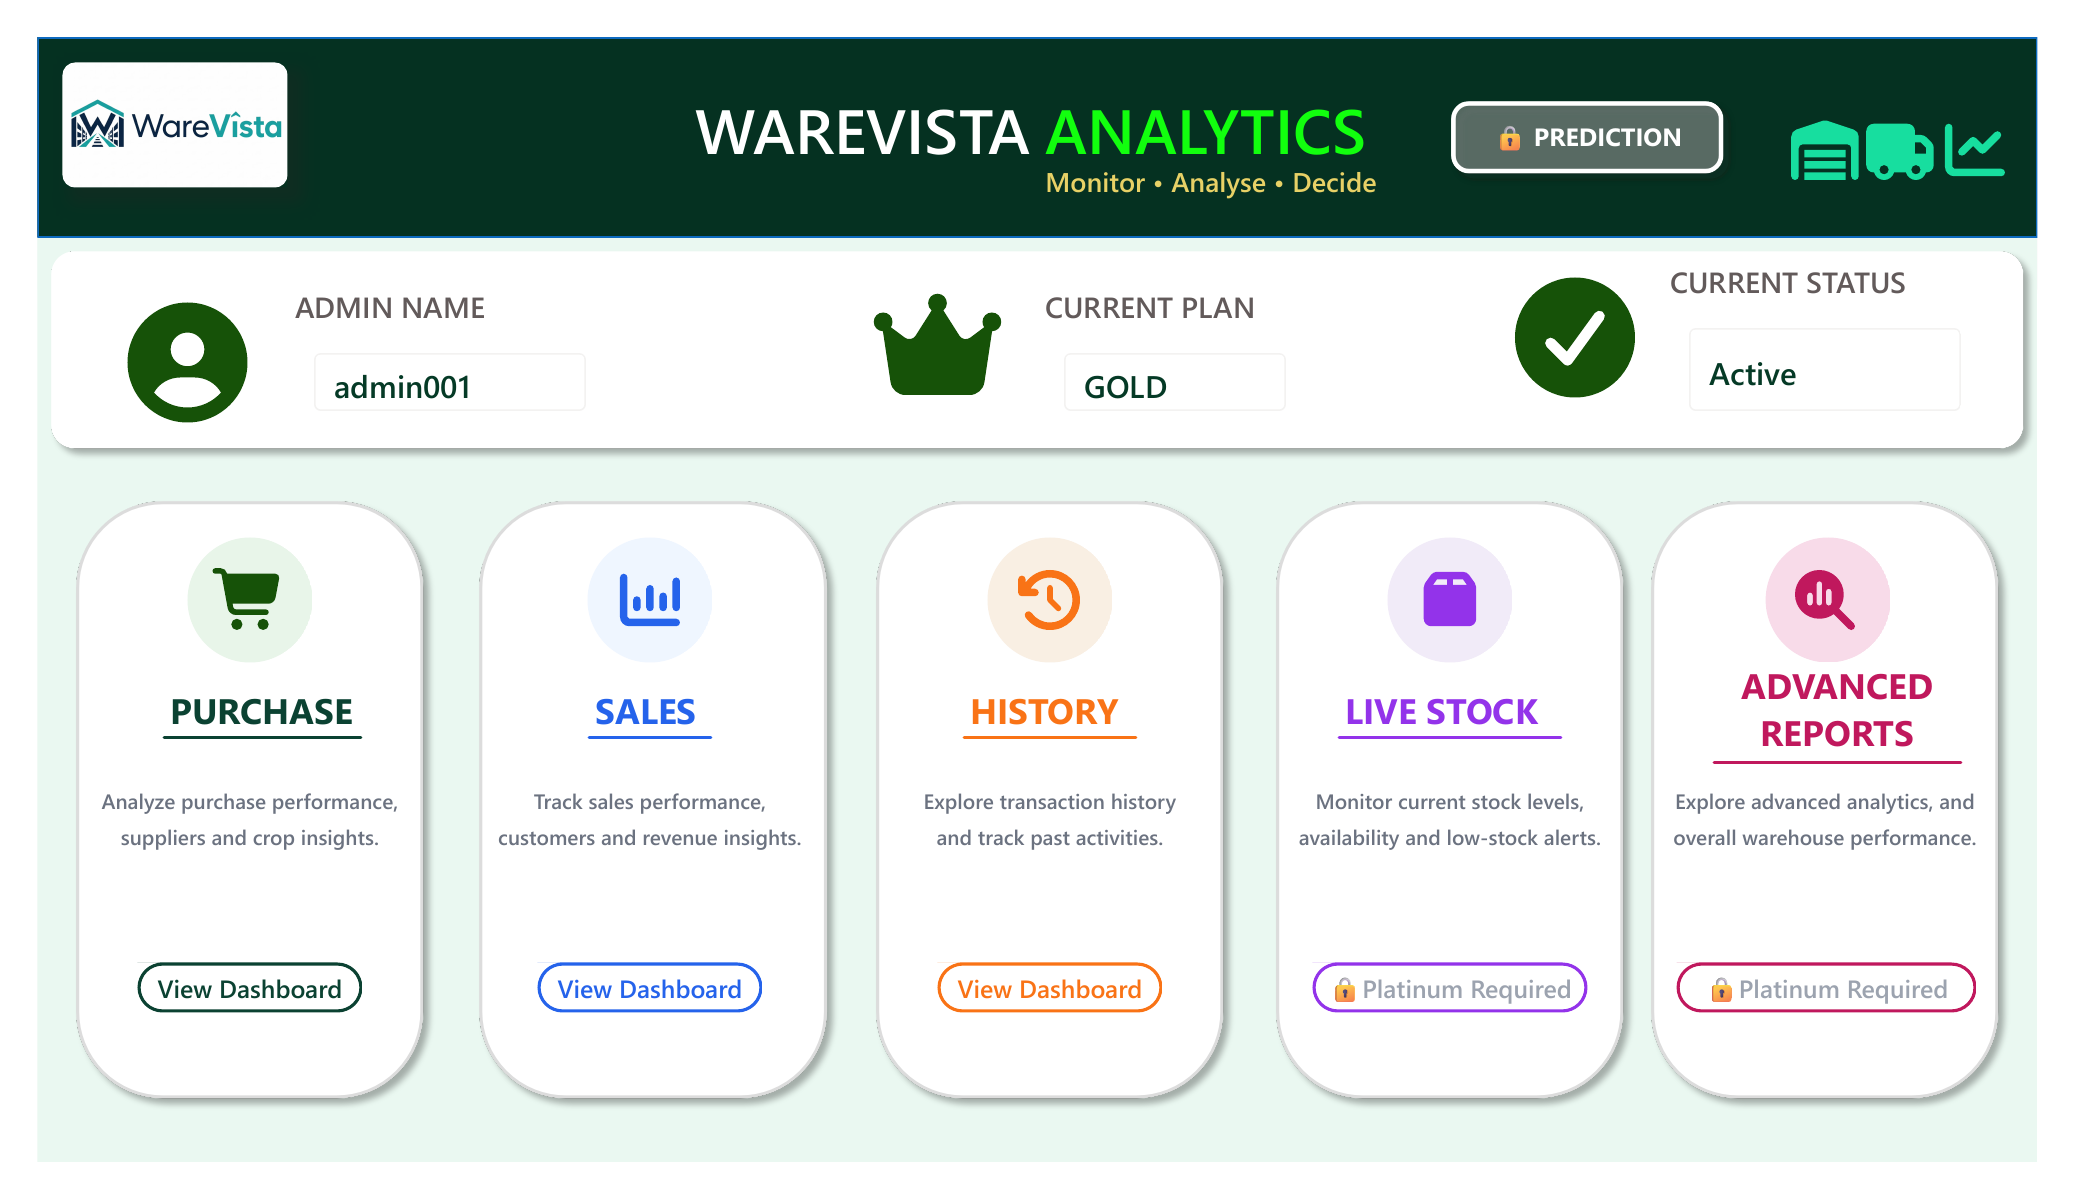

What the dashboard file says about the page in this screenshot:
{"tool":"powerbi","page":{"name":"MAIN DASHBOARD","canvas":[1280,720],"ordinal":0},"visuals":[{"type":"shape","box":[0,0,1280,128],"z":0},{"type":"textbox","title":"WAREVISTA","box":[416,32,240,48],"z":1000},{"type":"textbox","title":"ANALYTICS","box":[640,32,224,48],"z":2000},{"type":"image","box":[16,16,144,80],"z":3000},{"type":"image","box":[1168,48,48,48],"z":4000},{"type":"image","box":[1216,48,48,48],"z":5000},{"type":"image","box":[1120,48,48,48],"z":6000},{"type":"textbox","title":"Monitor • Analyse • Decide","box":[640,80,224,32],"z":7000},{"type":"shape","box":[0,128.3,1280,144],"z":8000},{"type":"image","box":[32,160.3,128,96],"z":9000},{"type":"image","box":[528,144.3,96,112],"z":10000},{"type":"image","box":[928,144.3,112,96],"z":11000},{"type":"cardVisual","title":"ADMIN NAME","fields":{"Data":["Users.Admin name"]},"box":[160,160.3,208,96],"z":12000},{"type":"cardVisual","title":"CURRENT PLAN","fields":{"Data":["Subscriptions.Current Plan"]},"box":[640,160.3,176,96],"z":13000},{"type":"cardVisual","title":"CURRENT STATUS","fields":{"Data":["Subscriptions.Current Status"]},"box":[1040,144.3,208,112],"z":14000},{"type":"shape","box":[16,288,240,400],"z":15000},{"type":"shape","box":[96,320,80,80],"z":16000},{"type":"image","box":[96,336,80,48],"z":17000},{"type":"textbox","title":"PURCHASE","box":[80,416,128,32],"z":18000},{"type":"shape","box":[80,432,128,32],"z":19000},{"type":"textbox","title":"Analyze purchase performance, ","box":[32,480,208,48],"z":20000},{"type":"actionButton","title":"View Dashboard","box":[64,592,144,32],"z":21000},{"type":"shape","box":[274.1,288,240,400],"z":22000},{"type":"shape","box":[352,320,80,80],"z":23000},{"type":"textbox","title":"SALES","box":[352,416,128,32],"z":24000},{"type":"shape","box":[352,432,80,32],"z":25000},{"type":"textbox","title":"Track sales performance,","box":[288,480,208,48],"z":26000},{"type":"actionButton","title":"View Dashboard","box":[320,592,144,32],"z":27000},{"type":"shape","box":[527.7,288,240,400],"z":28000},{"type":"shape","box":[607.7,320,80,80],"z":29000},{"type":"textbox","title":"HISTORY","box":[592,416,112,32],"z":30000},{"type":"shape","box":[592,432,112,32],"z":31000},{"type":"textbox","title":"Explore transaction history","box":[544,480,208,48],"z":32000},{"type":"actionButton","title":"View Dashboard","box":[576,592,144,32],"z":33000},{"type":"shape","box":[783.7,288,240,400],"z":34000},{"type":"shape","box":[863.7,320,80,80],"z":35000},{"type":"textbox","title":"LIVE STOCK","box":[832,416,144,32],"z":36000},{"type":"shape","box":[832,432,144,32],"z":37000},{"type":"textbox","title":"Monitor current stock levels,","box":[800,480,208,48],"z":38000},{"type":"actionButton","title":"View Dashboard","box":[816,592,176,32],"z":39000},{"type":"shape","box":[1024,288,240,400],"z":40000},{"type":"shape","box":[1106.3,320,80,80],"z":41000},{"type":"textbox","title":"ADVANCED REPORTS","box":[1056,400,192,64],"z":42000},{"type":"shape","box":[1072,448,160,32],"z":43000},{"type":"textbox","title":"Explore advanced analytics, and ","box":[1040,480,208,48],"z":44000},{"type":"actionButton","title":"View Dashboard","box":[1049,592,192,32],"z":45000},{"type":"image","box":[352,336,80,48],"z":46000},{"type":"image","box":[608,336,80,48],"z":47000},{"type":"image","box":[864,336,80,48],"z":48000},{"type":"image","box":[1104,336,80,48],"z":49000},{"type":"actionButton","box":[896,32,192,64],"z":50000}]}

Visuals, with their boxes on the page's 1280x720 design canvas (x1, y1, x2, y2). These are canvas units, not pixel positions in the 2075x1200 screenshot, which may show the page scaled, cropped or inside an application window:
shape: region(0, 0, 1280, 128)
"WAREVISTA" textbox: region(416, 32, 656, 80)
"ANALYTICS" textbox: region(640, 32, 864, 80)
image: region(16, 16, 160, 96)
image: region(1168, 48, 1216, 96)
image: region(1216, 48, 1264, 96)
image: region(1120, 48, 1168, 96)
"Monitor • Analyse • Decide" textbox: region(640, 80, 864, 112)
shape: region(0, 128, 1280, 272)
image: region(32, 160, 160, 256)
image: region(528, 144, 624, 256)
image: region(928, 144, 1040, 240)
"ADMIN NAME" cardVisual: region(160, 160, 368, 256)
"CURRENT PLAN" cardVisual: region(640, 160, 816, 256)
"CURRENT STATUS" cardVisual: region(1040, 144, 1248, 256)
shape: region(16, 288, 256, 688)
shape: region(96, 320, 176, 400)
image: region(96, 336, 176, 384)
"PURCHASE" textbox: region(80, 416, 208, 448)
shape: region(80, 432, 208, 464)
"Analyze purchase performance, " textbox: region(32, 480, 240, 528)
"View Dashboard" actionButton: region(64, 592, 208, 624)
shape: region(274, 288, 514, 688)
shape: region(352, 320, 432, 400)
"SALES" textbox: region(352, 416, 480, 448)
shape: region(352, 432, 432, 464)
"Track sales performance," textbox: region(288, 480, 496, 528)
"View Dashboard" actionButton: region(320, 592, 464, 624)
shape: region(528, 288, 768, 688)
shape: region(608, 320, 688, 400)
"HISTORY" textbox: region(592, 416, 704, 448)
shape: region(592, 432, 704, 464)
"Explore transaction history" textbox: region(544, 480, 752, 528)
"View Dashboard" actionButton: region(576, 592, 720, 624)
shape: region(784, 288, 1024, 688)
shape: region(864, 320, 944, 400)
"LIVE STOCK" textbox: region(832, 416, 976, 448)
shape: region(832, 432, 976, 464)
"Monitor current stock levels," textbox: region(800, 480, 1008, 528)
"View Dashboard" actionButton: region(816, 592, 992, 624)
shape: region(1024, 288, 1264, 688)
shape: region(1106, 320, 1186, 400)
"ADVANCED REPORTS" textbox: region(1056, 400, 1248, 464)
shape: region(1072, 448, 1232, 480)
"Explore advanced analytics, and " textbox: region(1040, 480, 1248, 528)
"View Dashboard" actionButton: region(1049, 592, 1241, 624)
image: region(352, 336, 432, 384)
image: region(608, 336, 688, 384)
image: region(864, 336, 944, 384)
image: region(1104, 336, 1184, 384)
actionButton: region(896, 32, 1088, 96)
